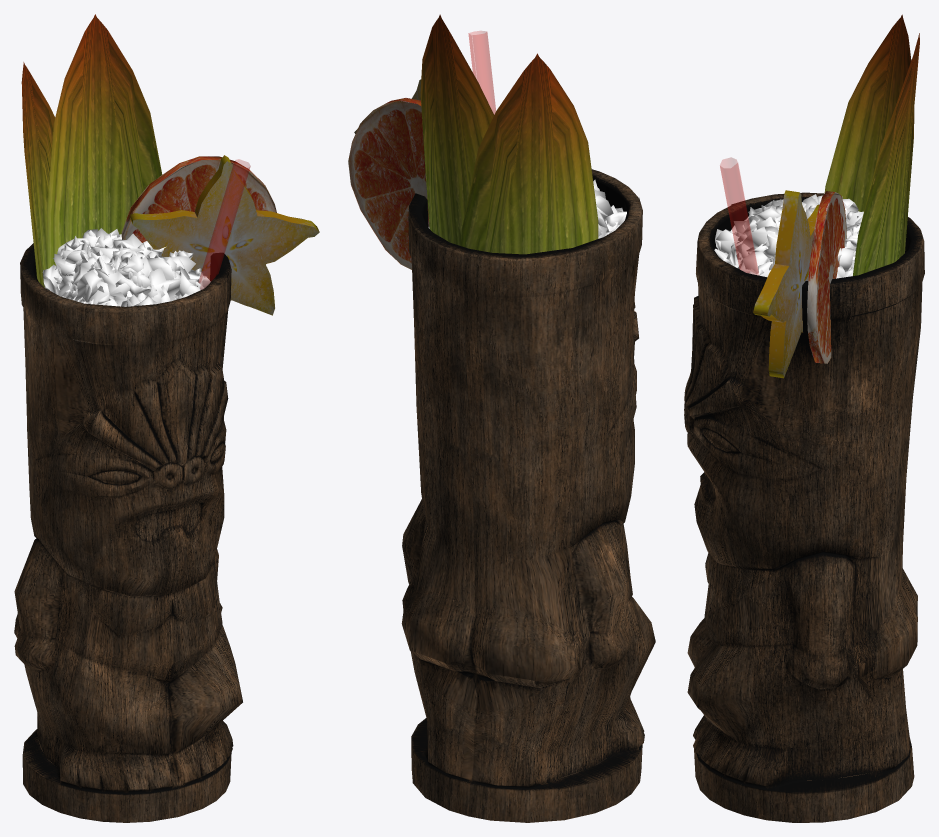
File: tikiMud_ar_fixed.glb
The picture shows the model from 3 angles, left to right: view 1: azimuth 30°, elevation 25°; view 2: azimuth 150°, elevation 25°; view 3: azimuth 270°, elevation 25°; orthographic projection. The views are drawn at different scales.
Parts seen in each view (by area): view 1: TIKI_green_glass.002; view 2: TIKI_green_glass.002; view 3: TIKI_green_glass.002.
Part boxes in pixels (box(x1,y1,x2,y2)): TIKI_green_glass.002: box(14, 14, 319, 822); TIKI_green_glass.002: box(348, 14, 655, 822); TIKI_green_glass.002: box(684, 14, 924, 822).
Size of the model in its own units: 0.0856 by 0.2155 by 0.0621.
6 materials, 4 textured.
